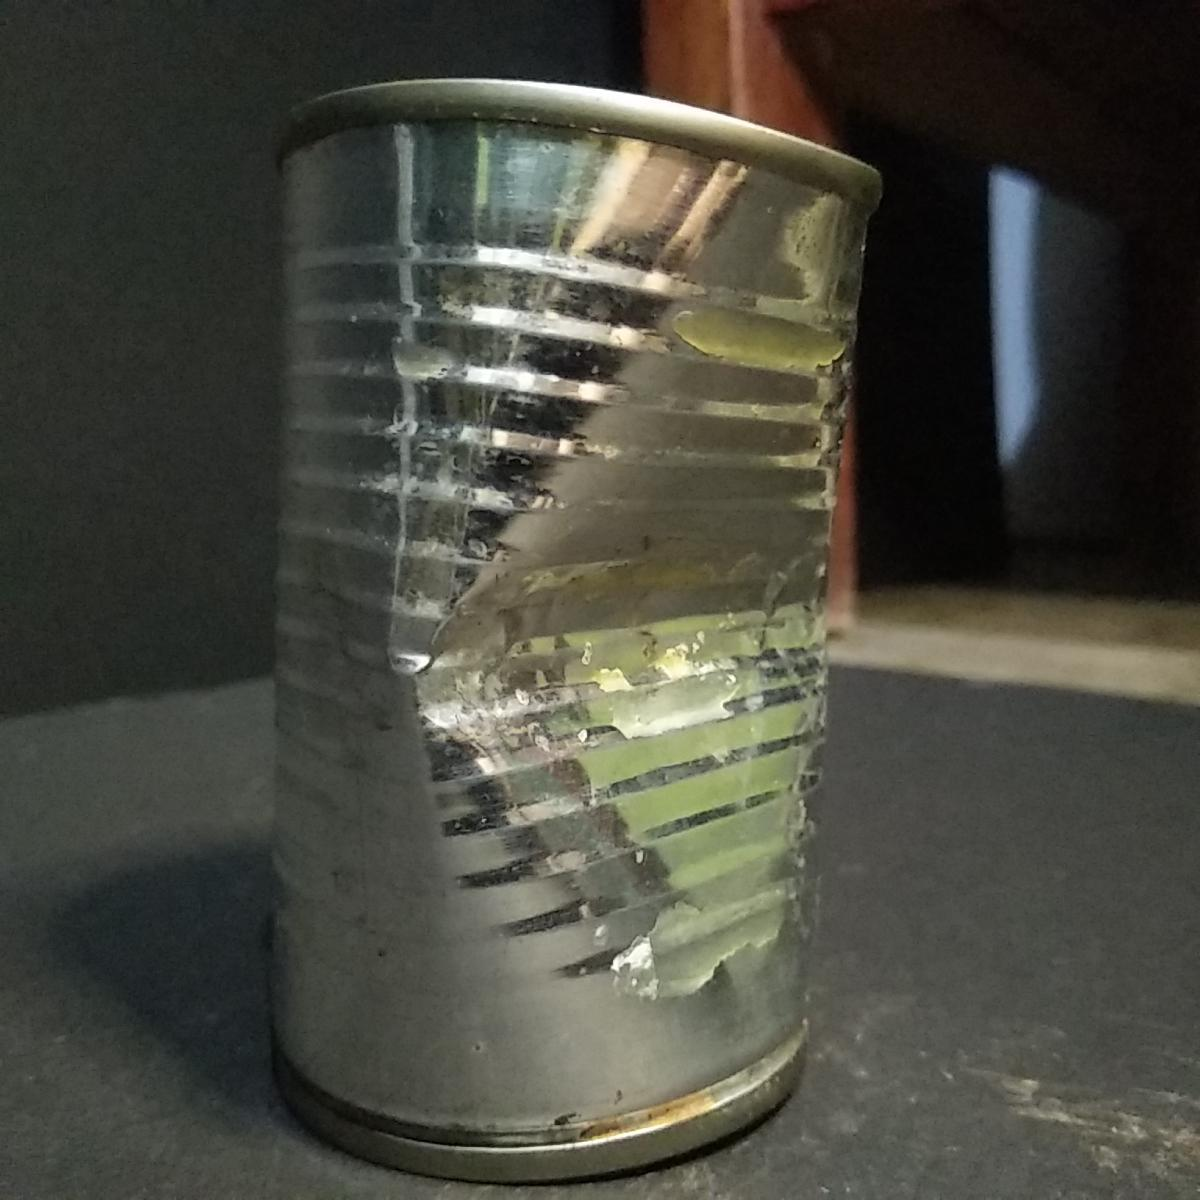Dented: (242, 52, 904, 1200)
